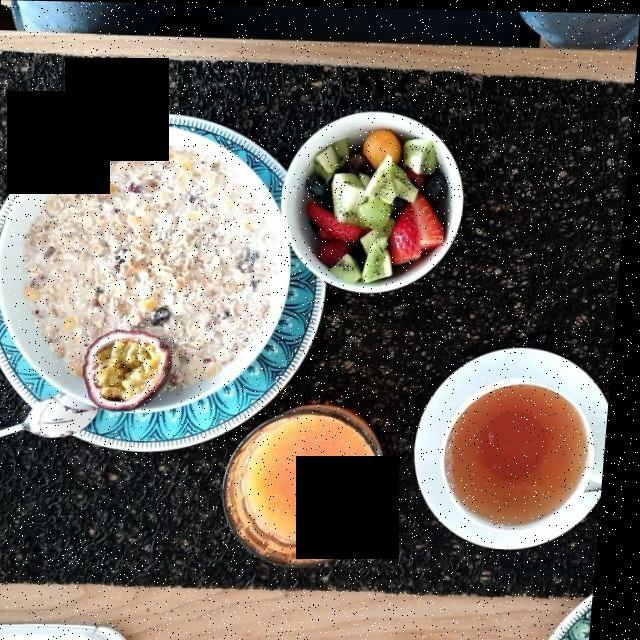fruit-salad: (314, 127, 453, 282)
juice: (248, 405, 384, 528)
muesli: (22, 156, 283, 388)
tea: (455, 386, 591, 522)
